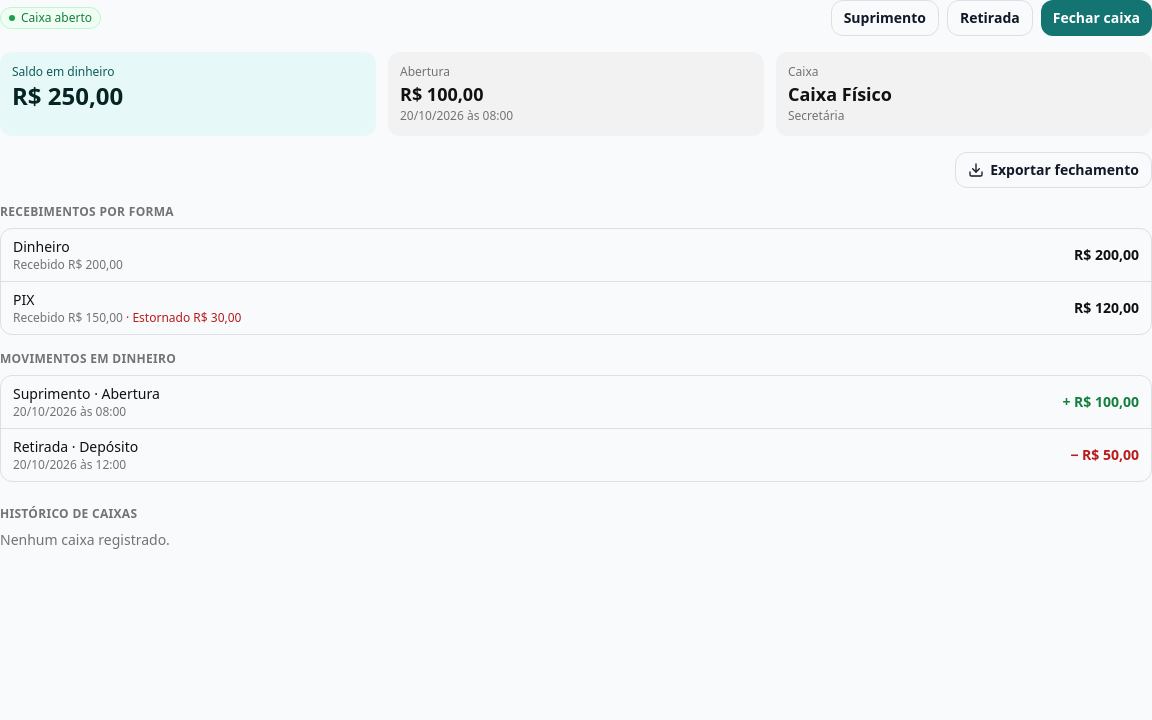
Test: CashTab › fechar o caixa abre o modal com o esperado
What coordinates should you click on to do the following:
click the button "Fechar caixa"
I would click on:
 (1096, 18)
Its box is top-left (1041, 0), bottom-right (1151, 36).
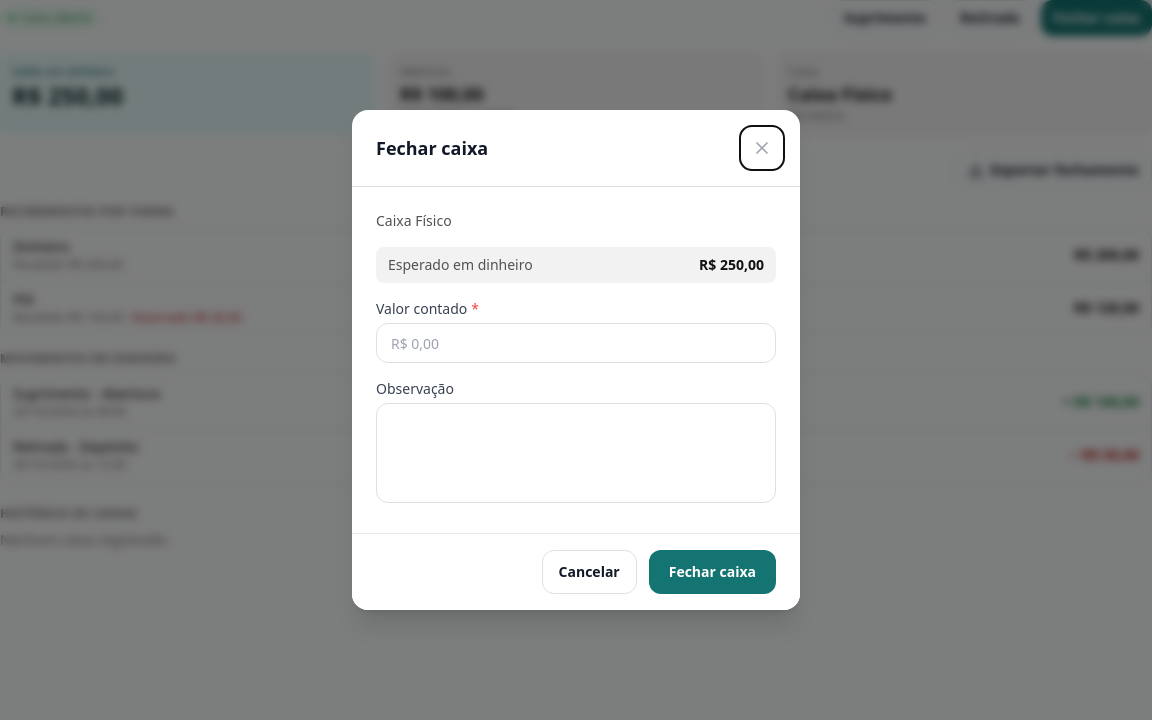
Check: the text with test id "valor-esperado" reads "R$ 250,00", box top-left (699, 255), bottom-right (764, 274)
